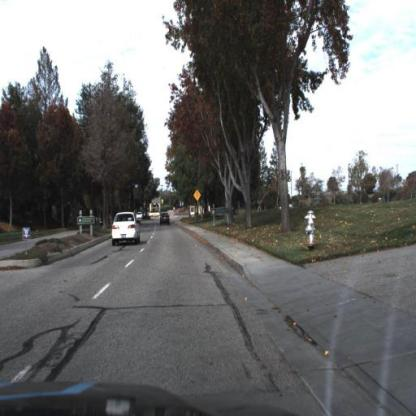car: (110, 211, 139, 245), (157, 212, 170, 226)
